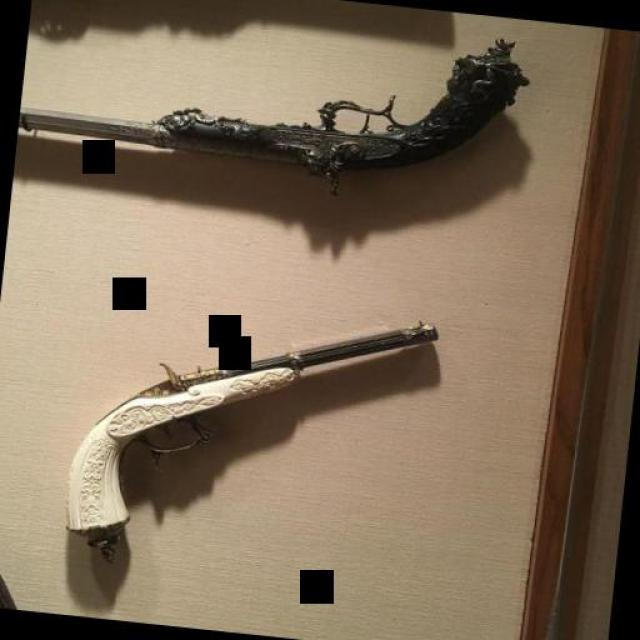gun: (49, 280, 446, 590), (15, 0, 536, 206)
